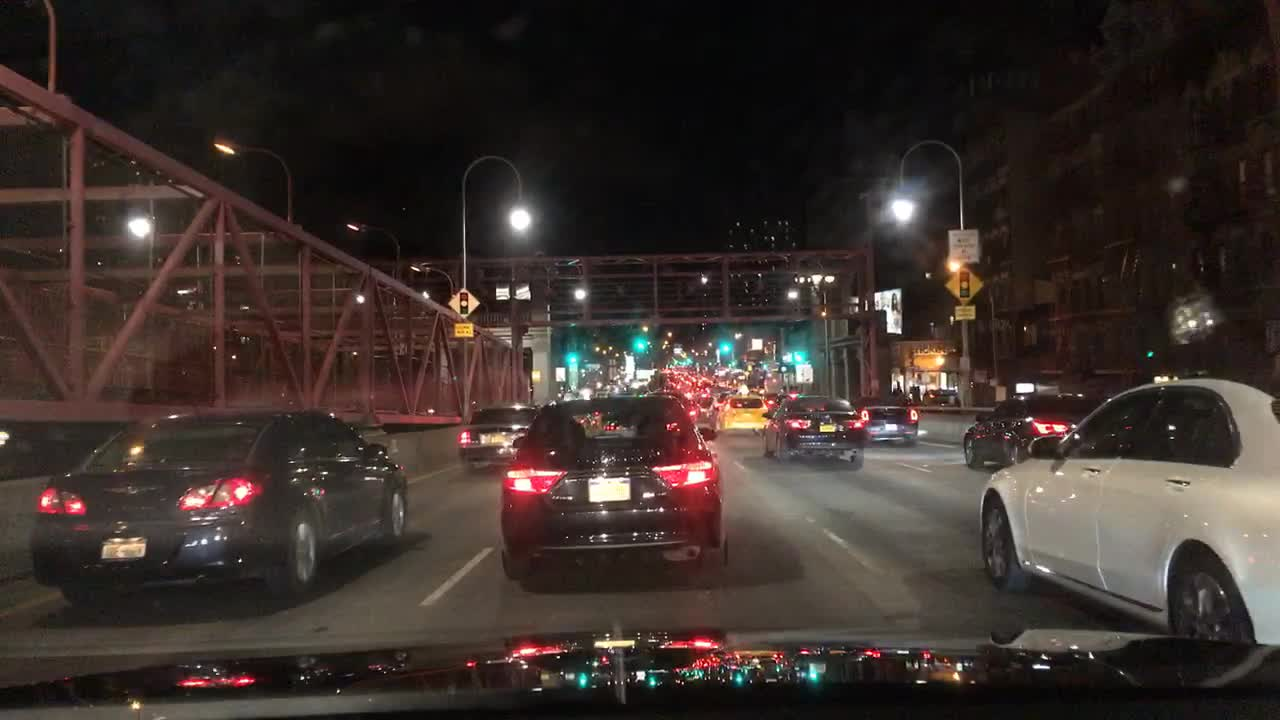car: (978, 380, 1278, 645), (32, 410, 409, 604), (500, 394, 726, 580), (963, 390, 1102, 469), (762, 392, 868, 467), (458, 401, 537, 477), (850, 393, 916, 447), (715, 391, 773, 436), (688, 391, 718, 438), (647, 386, 693, 407), (923, 388, 961, 411), (764, 392, 796, 418), (710, 384, 733, 400)
traffic light: (632, 330, 646, 352), (565, 341, 577, 366), (718, 333, 729, 354), (793, 348, 803, 364)
traffic sign: (943, 265, 983, 302), (447, 285, 481, 318), (947, 230, 980, 261), (797, 364, 812, 384), (452, 321, 471, 335), (955, 304, 974, 318)
